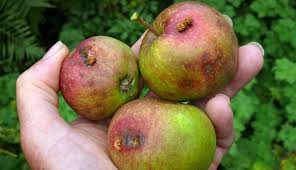damaged_apple: (140, 5, 242, 99), (107, 101, 216, 170), (61, 34, 137, 122)
